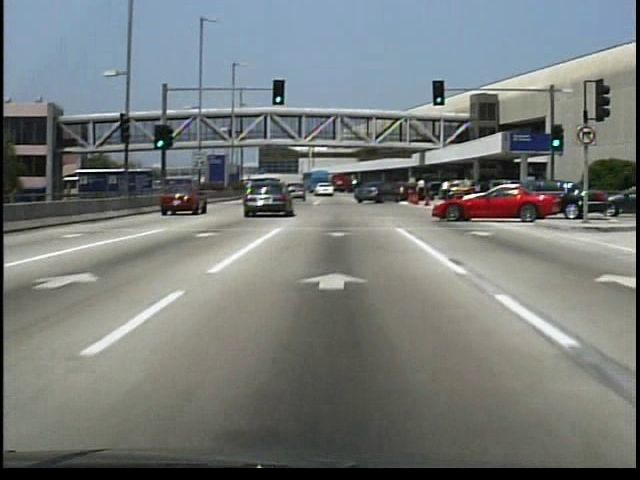person: (414, 170, 429, 199), (440, 170, 453, 193), (226, 122, 233, 137)
